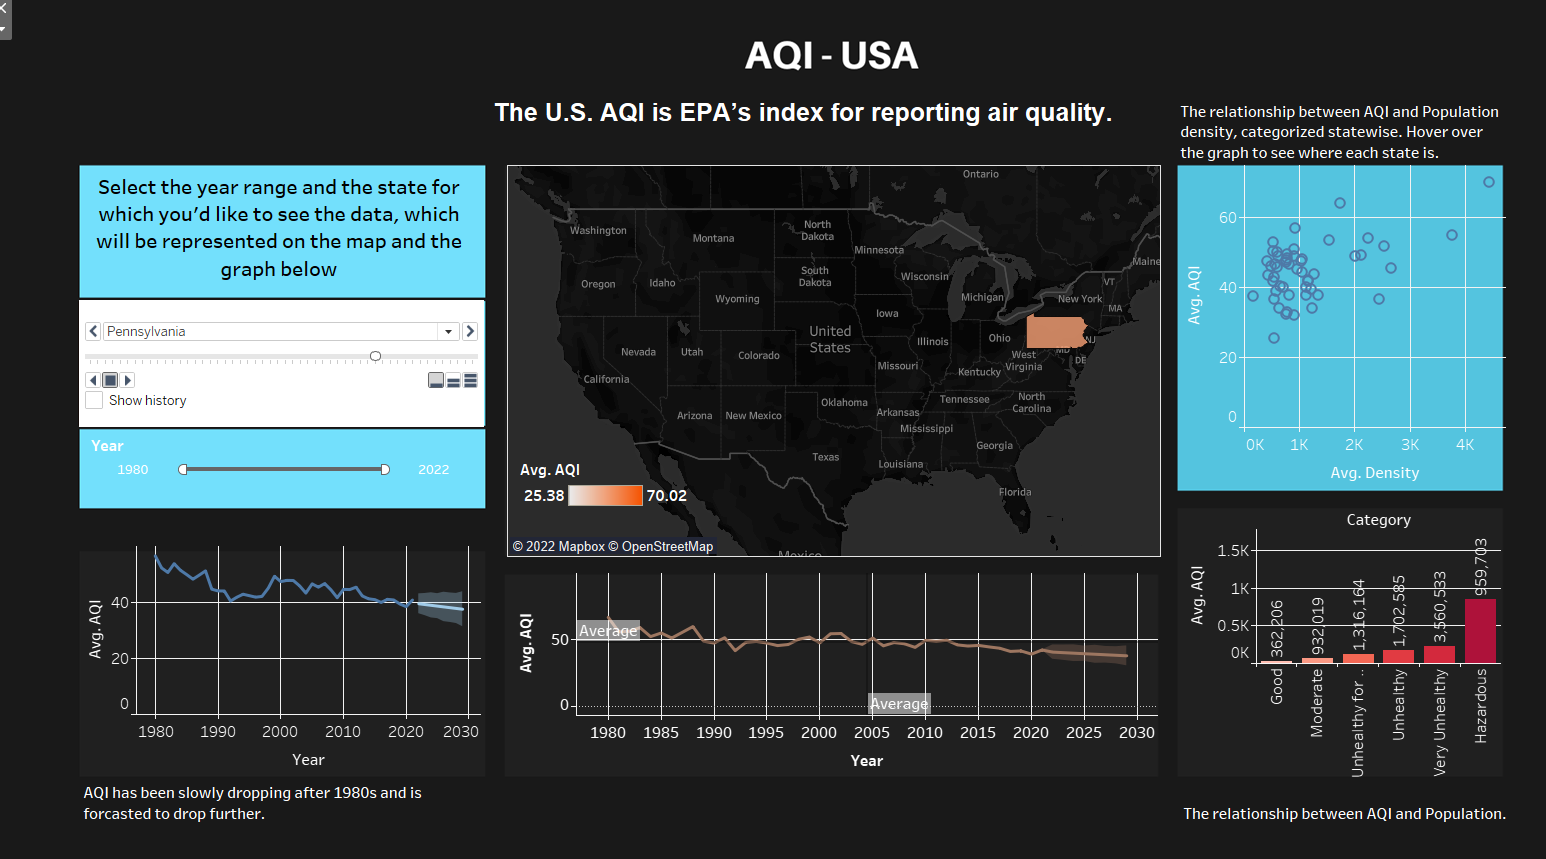

What the dashboard file says about the page in this screenshot:
{"tool":"tableau","page":{"name":"Dashboard 1","canvas":[1000,1000],"units":"permille","ordinal":0},"visuals":[{"type":"text","box":[297.5,95.2,445.4,75.5]},{"type":"text","box":[712.1,117.3,196.7,76.7]},{"type":"worksheet","title":"Sheet 1","mark":"Automatic","box":[307.8,194,394.7,455.3]},{"type":"worksheet","title":"Sheet 5","mark":"Automatic","rows":["AQI"],"cols":["density"],"box":[711.5,194,199.2,579.6]},{"type":"text","box":[50.7,195.1,239,144]},{"type":"currpage","title":"Sheet 2","box":[49.5,350.8,244.4,147.5]},{"type":"filter","title":"Sheet 2","param":"[federated.0t4cvdt1lbm8zs1e199p11y351rd].[none:year:qk]","box":[56.7,507.6,233,84.8]},{"type":"legend","title":"Sheet 1","param":"[federated.0t4cvdt1lbm8zs1e199p11y351rd].[avg:AQI:qk]","box":[315.6,535.4,103.8,110.3]},{"type":"worksheet","title":"Sheet 3","mark":"Automatic","rows":["AQI"],"cols":["Category"],"box":[713.3,593.5,194.3,318.2]},{"type":"worksheet","title":"Sheet 8","mark":"Automatic","rows":["AQI"],"cols":["year"],"box":[48.3,636.5,243.8,268.3]},{"type":"worksheet","title":"Sheet 2","mark":"Automatic","rows":["AQI"],"cols":["year"],"box":[308.4,667.8,392.3,238.1]},{"type":"text","box":[50.1,905.9,245.6,58.1]},{"type":"text","box":[713.9,917.5,204,58.1]}]}

Visuals, with their boxes on the dashboard's canvas, which has no fixed pixel size, in thousandths of its width and height (x1, y1, x2, y2). These are canvas units, not pixel positions in the 1546x859 screenshot, which may show the page scaled, cropped or inside an application window:
text: [298,95,743,171]
text: [712,117,909,194]
"Sheet 1" worksheet: [308,194,702,649]
"Sheet 5" worksheet: [712,194,911,774]
text: [51,195,290,339]
"Sheet 2" currpage: [50,351,294,498]
"Sheet 2" filter: [57,508,290,592]
"Sheet 1" legend: [316,535,419,646]
"Sheet 3" worksheet: [713,594,908,912]
"Sheet 8" worksheet: [48,636,292,905]
"Sheet 2" worksheet: [308,668,701,906]
text: [50,906,296,964]
text: [714,918,918,976]
